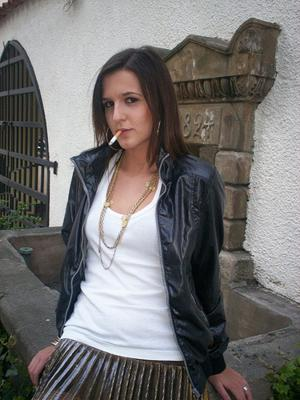person: (28, 44, 254, 400)
